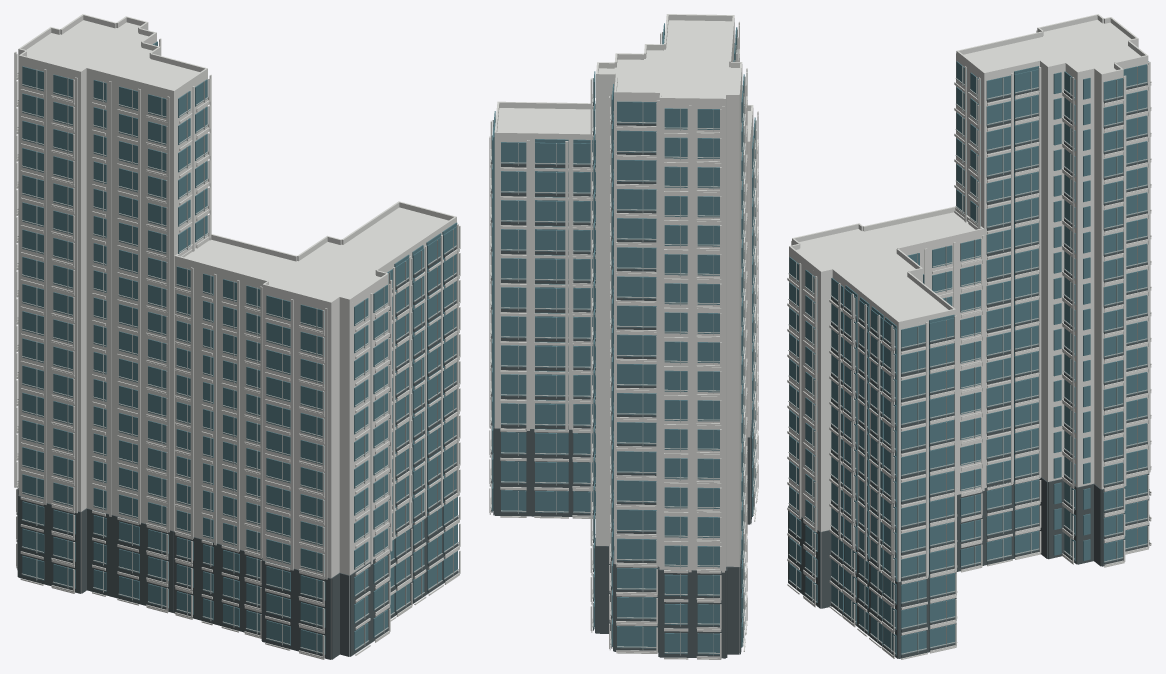
Rendered from bespoke-acro-riverpark-113.glb.
3 renders of one model, left to right at view 1: azimuth 30°, elevation 25°; view 2: azimuth 150°, elevation 25°; view 3: azimuth 270°, elevation 25°, orthographic. The views are drawn at different scales.
Visible parts, largest first — view 1: 113_R00_body, 113_R00_glass, 113_R00_dark, 113_R00_frame; view 2: 113_R00_body, 113_R00_glass, 113_R00_dark, 113_R00_frame; view 3: 113_R00_glass, 113_R00_body, 113_R00_dark, 113_R00_frame.
Part boxes in pixels (x1=…): 113_R00_body: x1=14, y1=14, x2=460, y2=659; 113_R00_glass: x1=22, y1=41, x2=457, y2=654; 113_R00_dark: x1=17, y1=247, x2=458, y2=659; 113_R00_frame: x1=17, y1=44, x2=458, y2=654; 113_R00_body: x1=489, y1=14, x2=758, y2=659; 113_R00_glass: x1=492, y1=23, x2=755, y2=654; 113_R00_dark: x1=491, y1=102, x2=752, y2=658; 113_R00_frame: x1=491, y1=29, x2=756, y2=655; 113_R00_glass: x1=789, y1=61, x2=1148, y2=655; 113_R00_body: x1=787, y1=14, x2=1151, y2=659; 113_R00_dark: x1=788, y1=83, x2=1149, y2=658; 113_R00_frame: x1=788, y1=66, x2=1149, y2=654.
Bounding box in the file's own units: 45.89 × 68 × 45.66.
